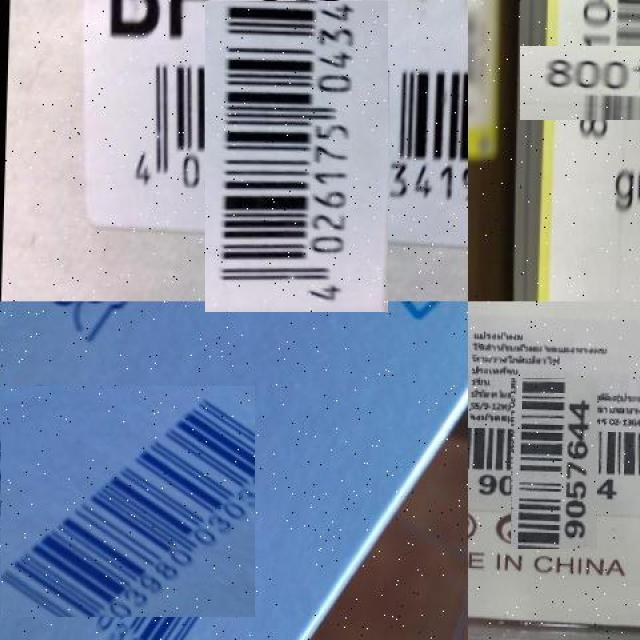Barcode: (164, 9, 428, 272), (0, 375, 244, 629), (489, 400, 618, 528), (543, 23, 640, 143)
